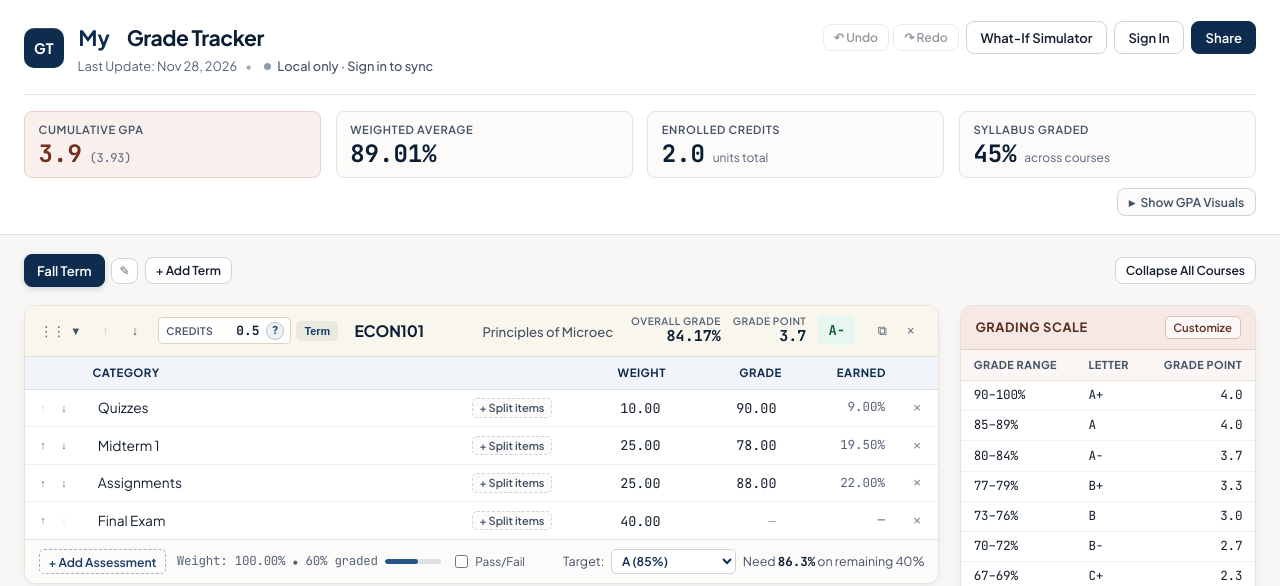
Scenario: Grade Tracker React Application (M1 + M1.1 + Firebase Cloud Sync) › isolates ALL What-If edits (both already-graded and ungraded rows) in memory and reverts 100% on exit (Issue #4)
Expected: the field named "ECON101 Quizzes grade percent" is not empty, [684,393,784,422]
Click the button "What-If Simulator". click: (1036, 38)
box: [966,21,1107,54]
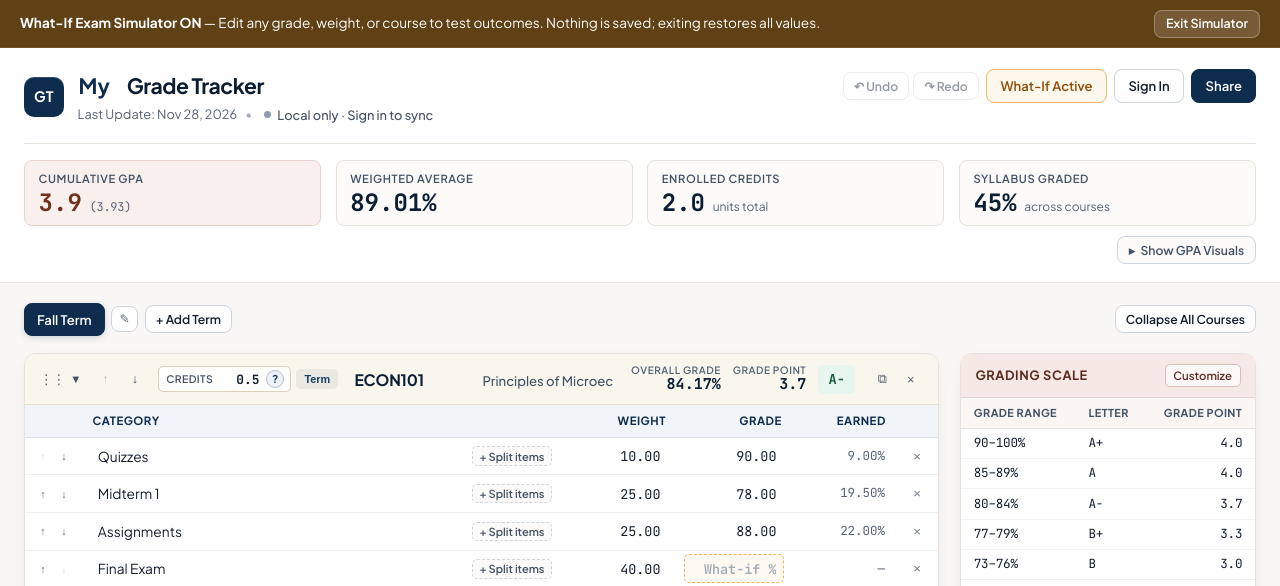
Expected: the text "What-If Exam Simulator ON" is shown, [20,14,202,32]
Replace the text in the field named "ECON101 Quizzes grade percent" with "12.50". click: (734, 456)
box: [684,442,784,471]
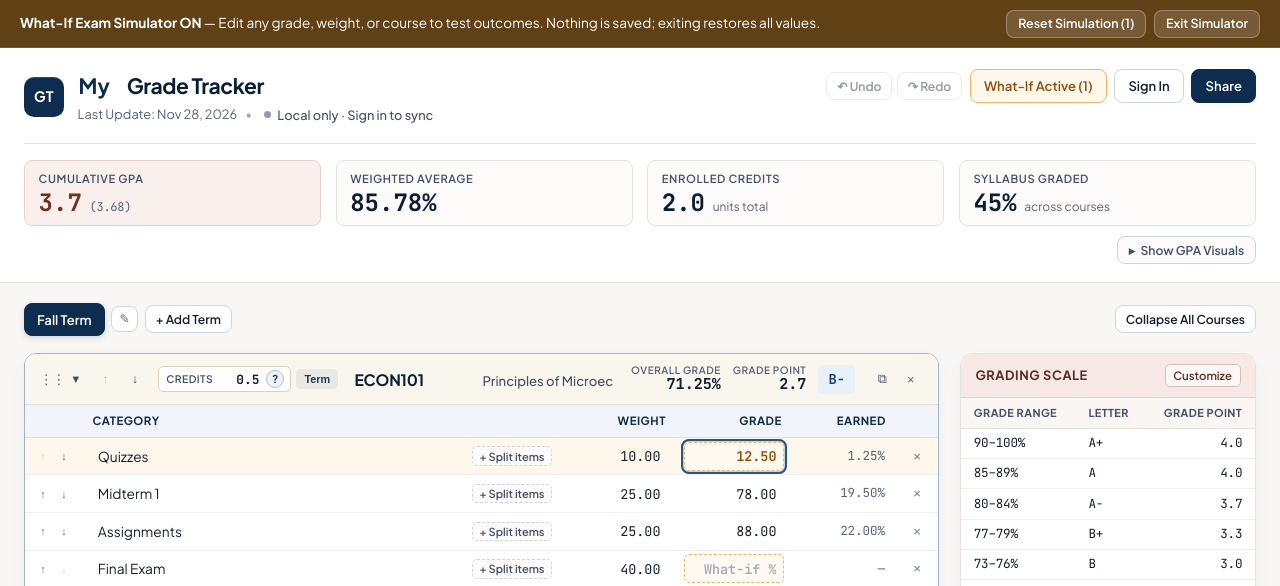
Type "98.00" into the field labelled "What-if %". click: (734, 569)
box: [684,554,784,583]
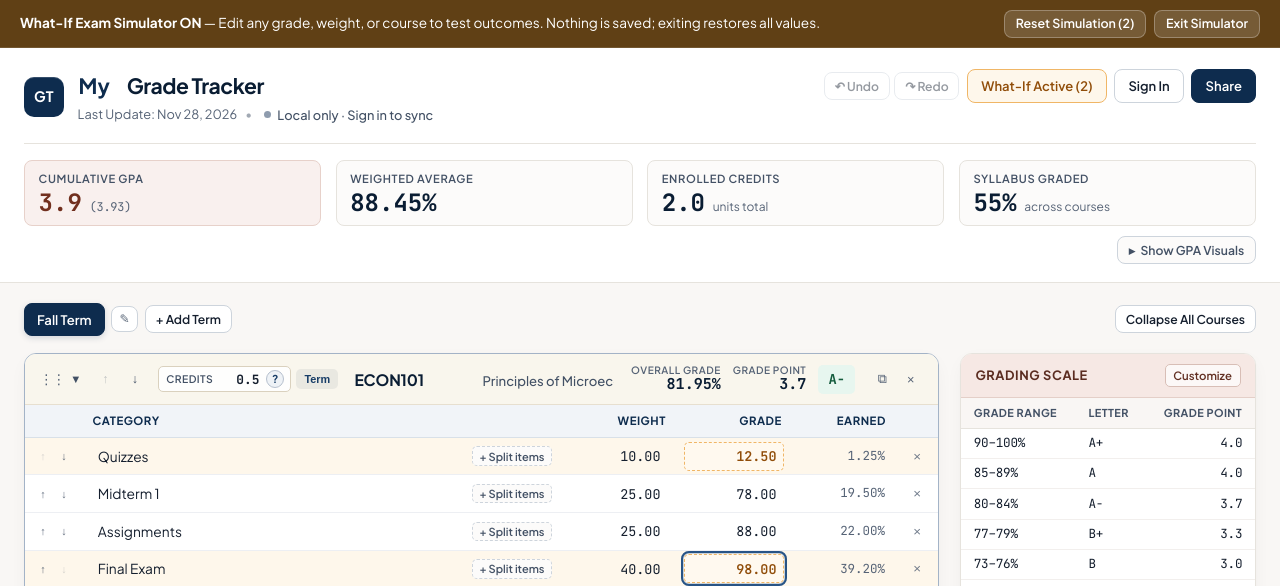
Expected: the button "Reset Simulation (2)" is shown, [1004,10,1146,38]
Click the button "Exit Simulator". click: (1207, 24)
box: [1154,10,1260,38]
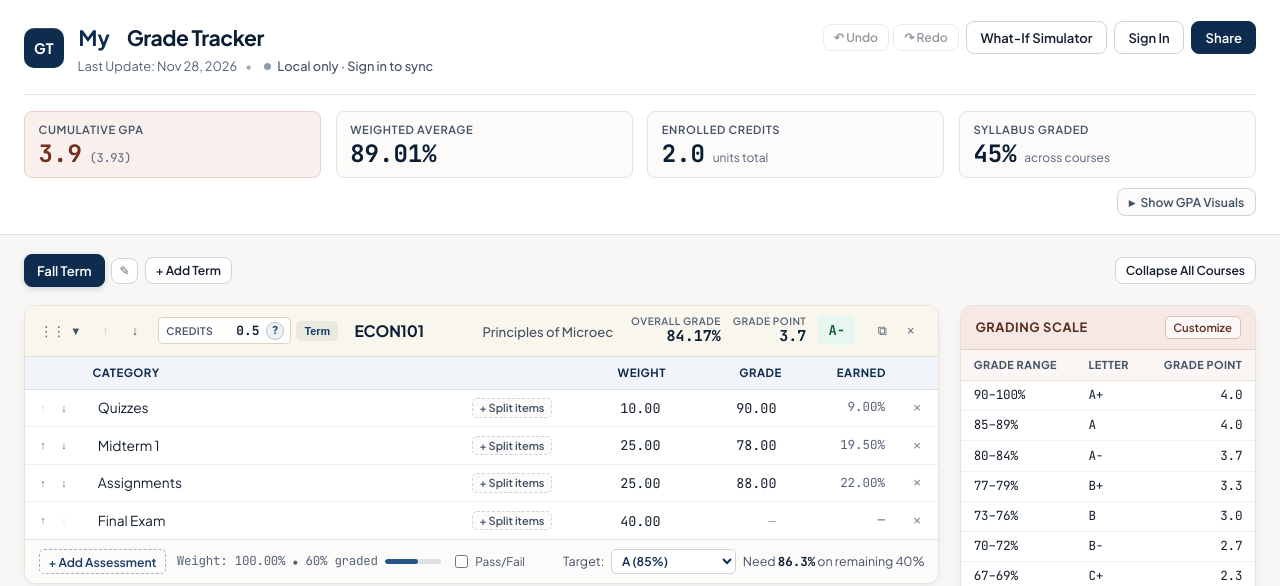
Expected: the text "What-If Exam Simulator ON" is gone
Expected: the field named "ECON101 Quizzes grade percent" holds "90.00", [684,393,784,422]
